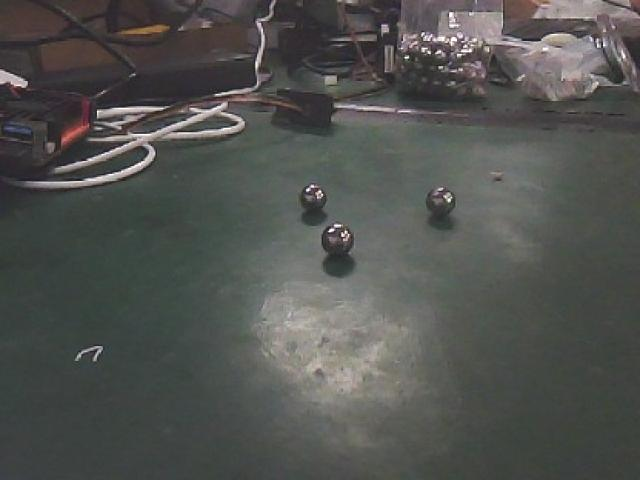steel-ball: (409, 170, 466, 224), (316, 217, 362, 268), (291, 172, 337, 218)
